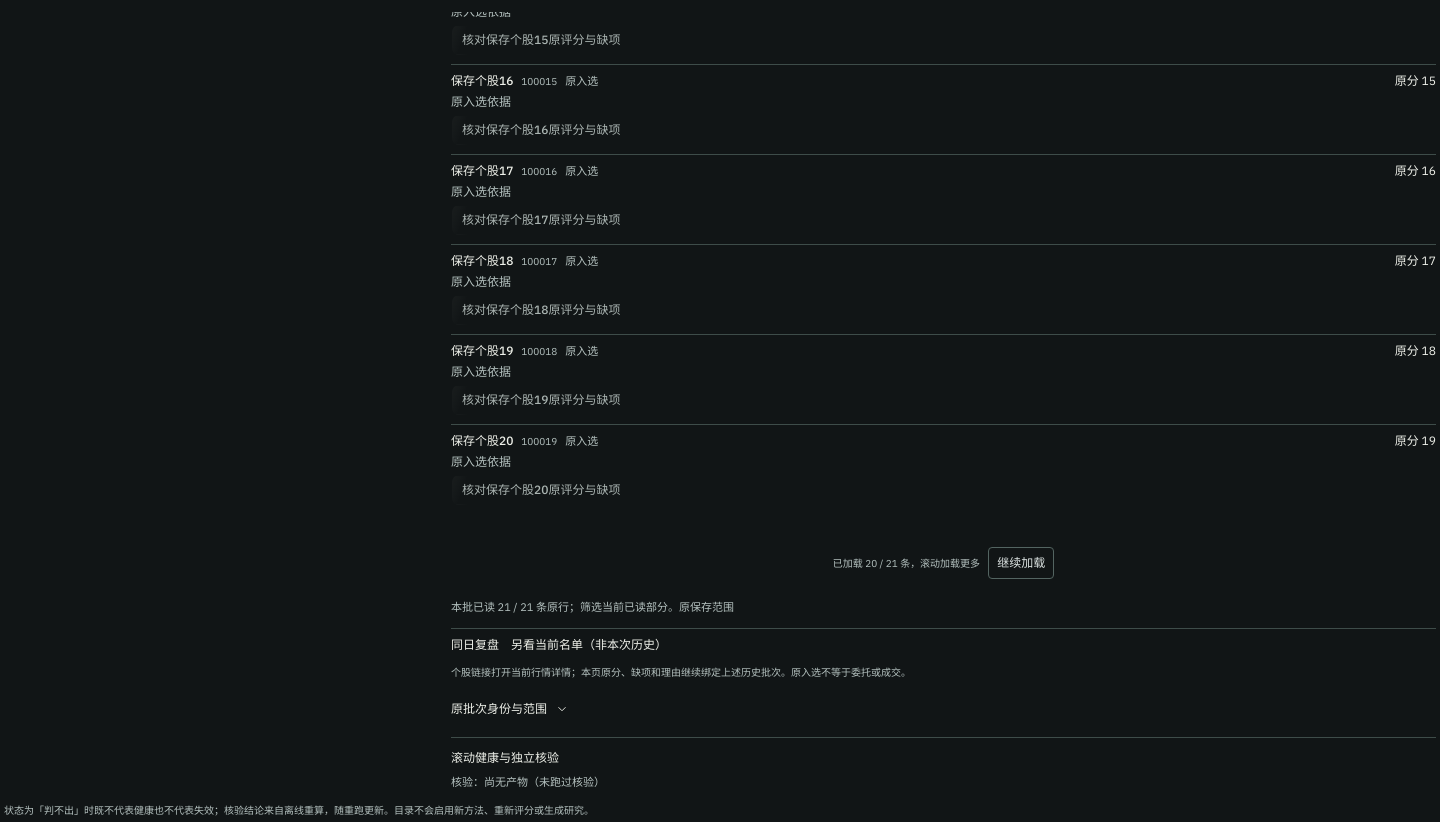
方法结果下拉继续加载保全所有已读行，不重复请求运行
The image size is (1440, 822).
Expected: the link "保存个股20" is shown, left=451, top=433, right=513, bottom=449
Expected: the text "保存个股21" is not shown
Click the button "继续加载": point(1021, 563) left=988, top=547, right=1054, bottom=579
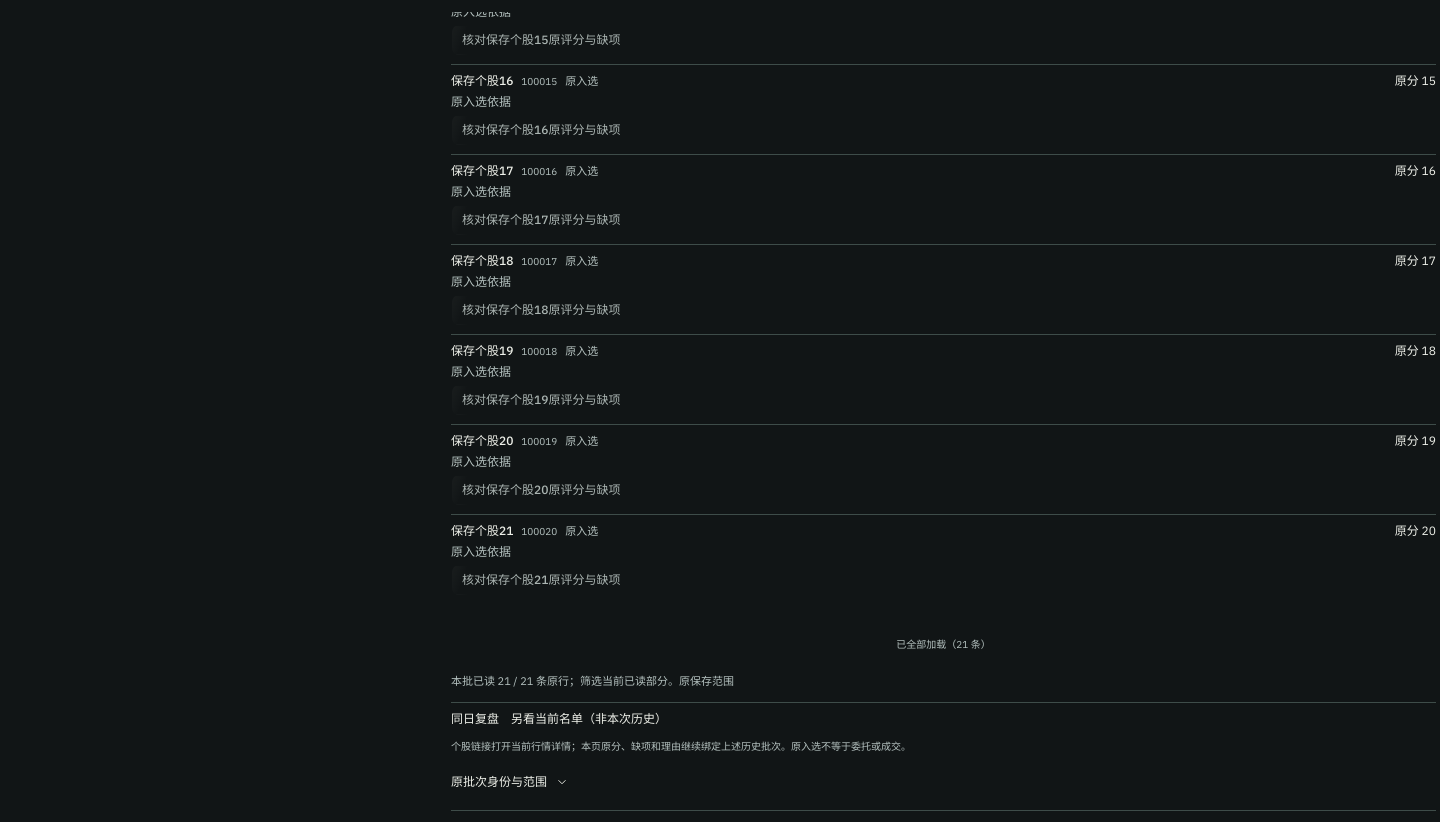
Expected: the link "保存个股21" is shown, left=451, top=523, right=513, bottom=539
Expected: the text "已全部加载（21 条）" is shown, left=896, top=638, right=991, bottom=651
